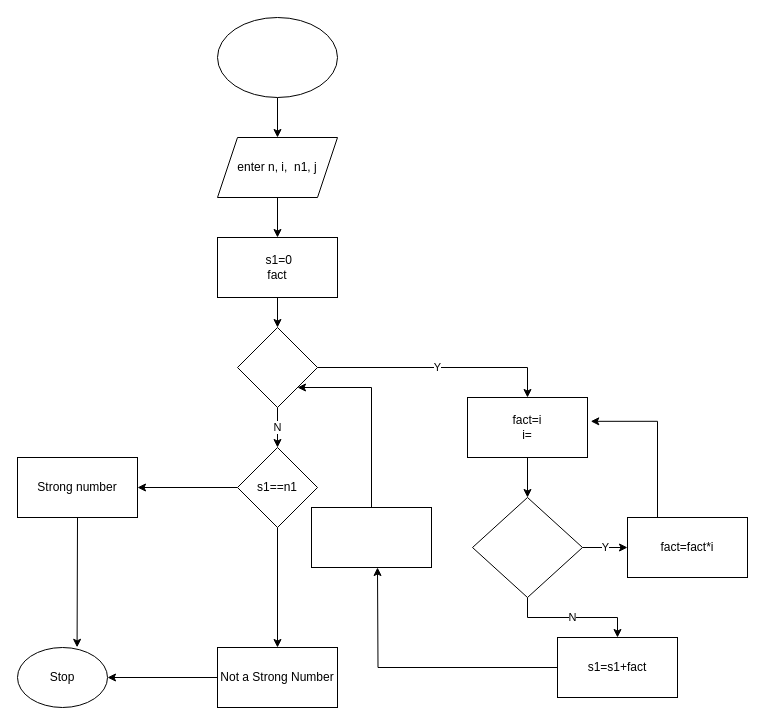
This 765x725 diagram has some shape labels left out. Each missing label, with the box of its shape:
j<=j % 10: (472, 496, 582, 598)
j=j/10: (310, 506, 432, 568)
j>0: (236, 326, 318, 408)
Start: (216, 16, 338, 98)
